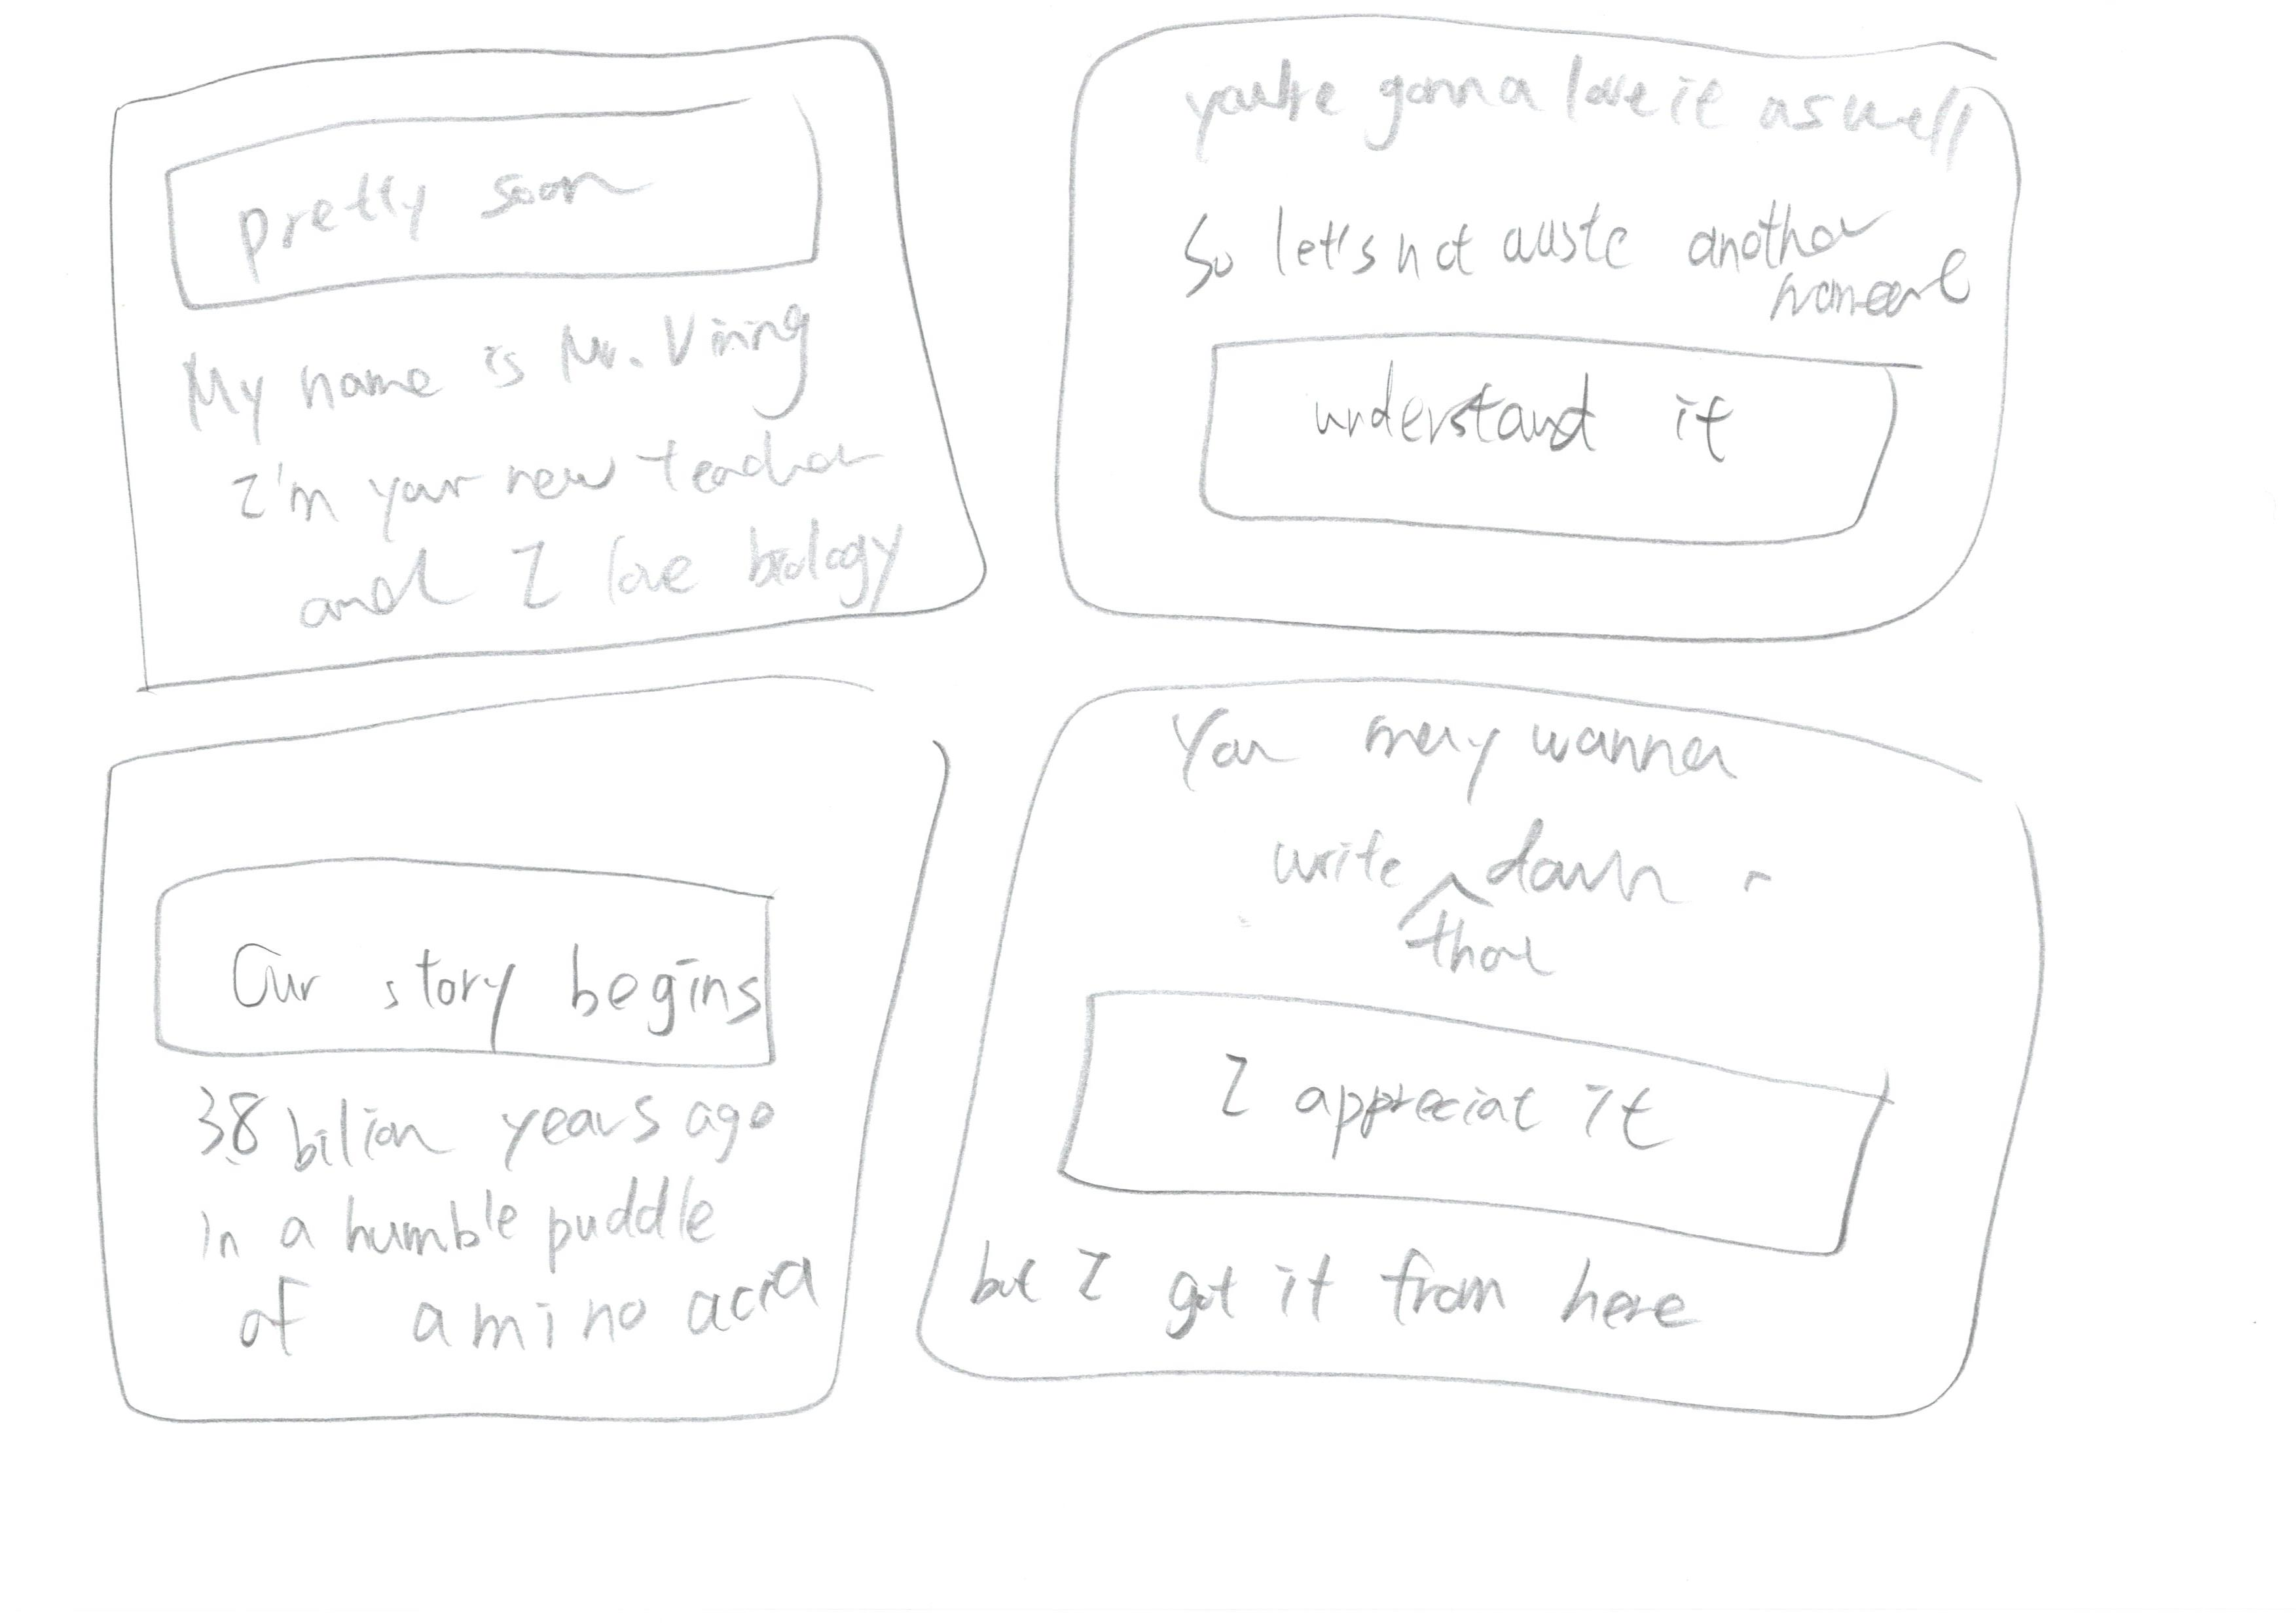btn-active: (1032, 975, 1934, 1288), (1139, 309, 1967, 585), (123, 70, 870, 323), (116, 838, 821, 1090)
double: (865, 671, 2099, 1475), (0, 654, 983, 1461), (1028, 0, 2039, 703), (32, 0, 1041, 703)
row: (0, 668, 2273, 1545), (16, 0, 2263, 677)
text: (134, 1070, 828, 1369), (1152, 63, 1965, 318), (144, 332, 897, 594), (1134, 708, 1793, 954), (960, 1236, 1719, 1366)
